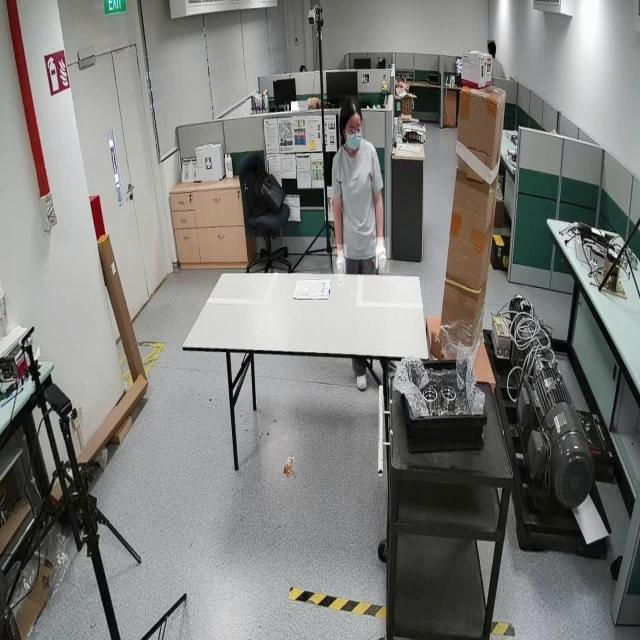face_mask: (344, 118, 366, 151)
hand_glove: (374, 237, 390, 274), (332, 244, 347, 276)
head_nohelmet: (339, 95, 362, 117), (487, 40, 495, 48)
person: (330, 98, 388, 274)
